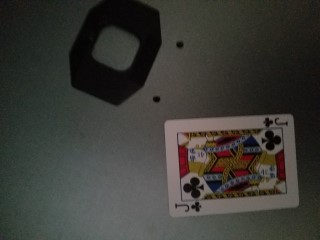JackOfClubs: (163, 112, 301, 218)
